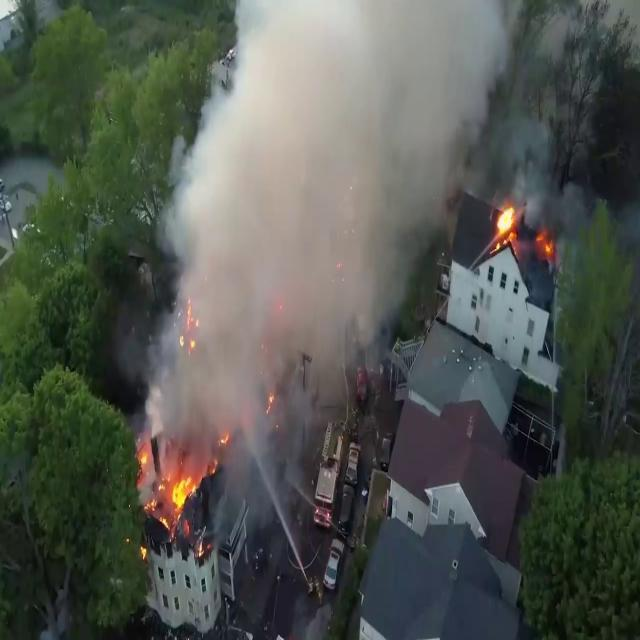Fire: (155, 460, 201, 528), (489, 196, 524, 248), (534, 224, 558, 263)
Smoke: (134, 0, 520, 452)
